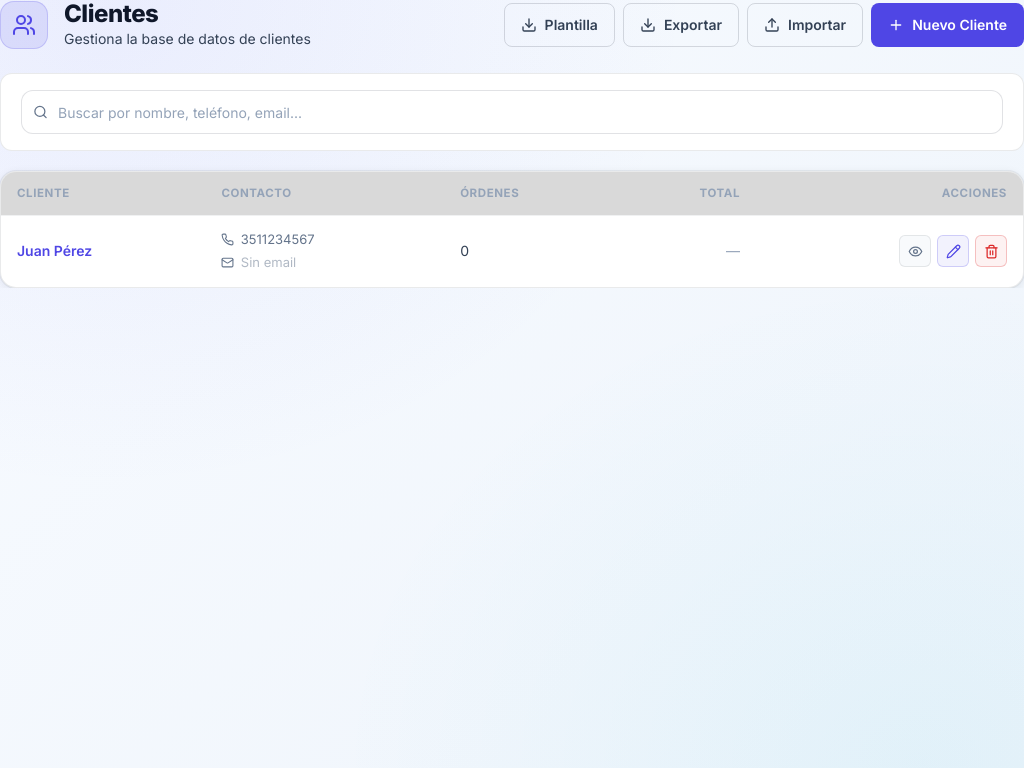
it: B · listado: confirmación visible › B1 · guardar cierra el diálogo, confirma con el nombre y recarga la lista
Click the button titled "Editar cliente" at (953, 251), box [937,235,969,267]
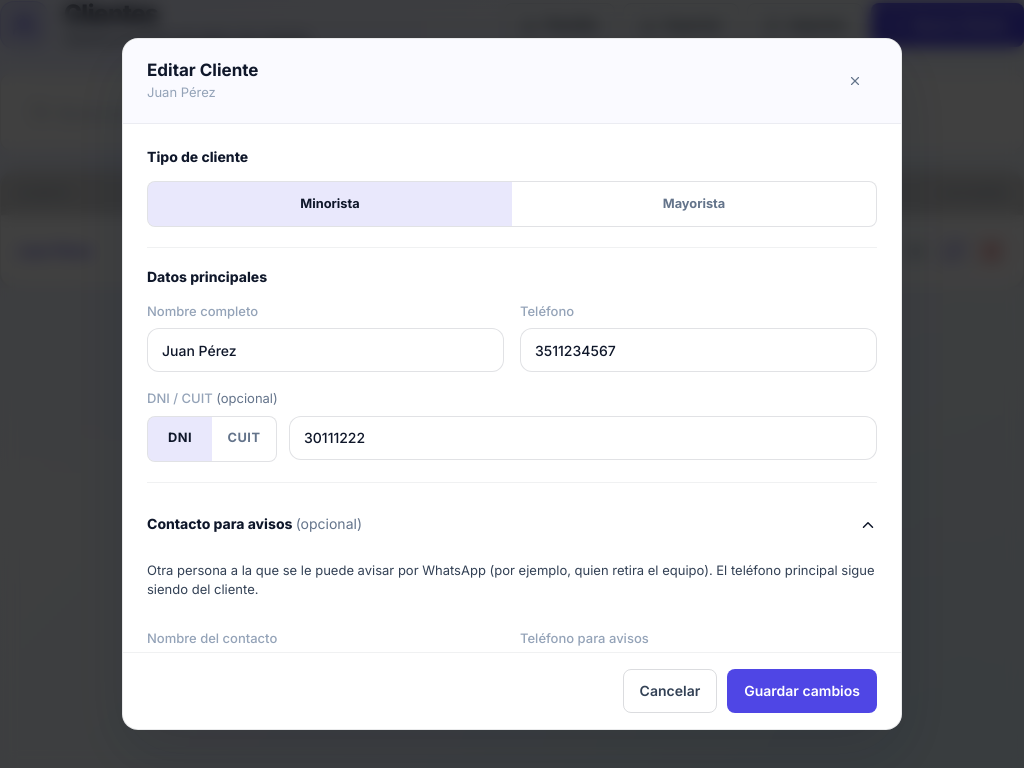
Replace the text in the field with test id "customer-phone-input" with "3519999999" at (698, 350), box [520,328,877,372]
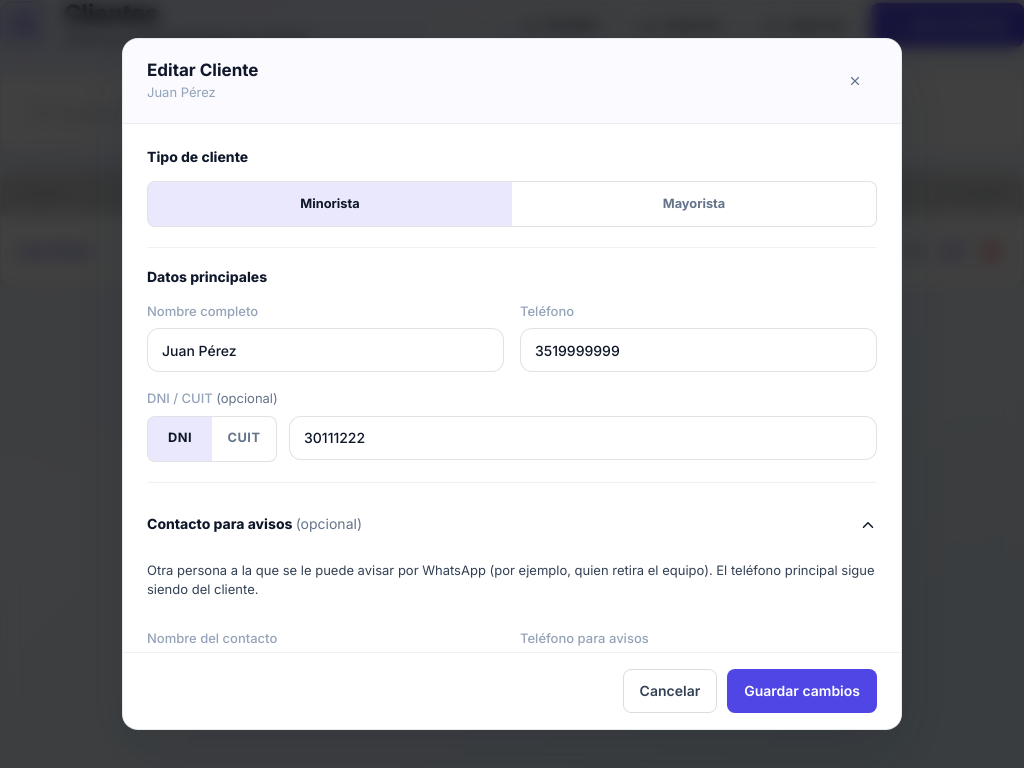
Click the button with test id "customer-edit-save-button" at (802, 691), box [727,669,877,713]
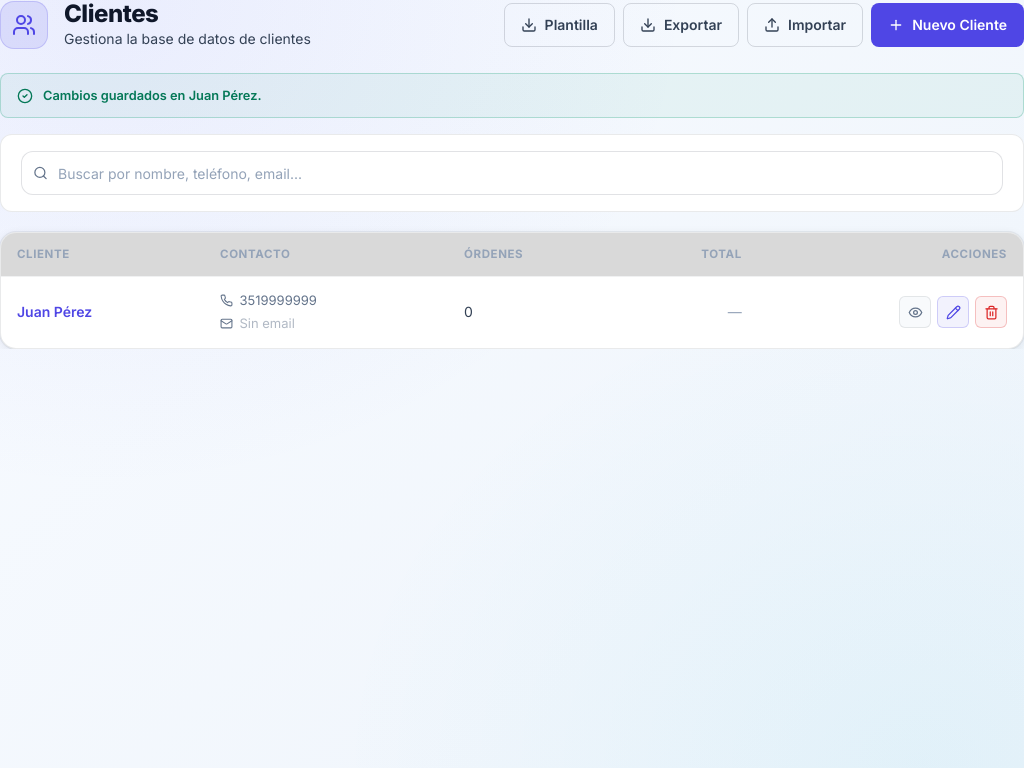
Expected: the message with test id "customer-saved-notice" reads "Cambios guardados en Juan Pérez.", [43,88,262,103]
Expected: the dialog is gone
